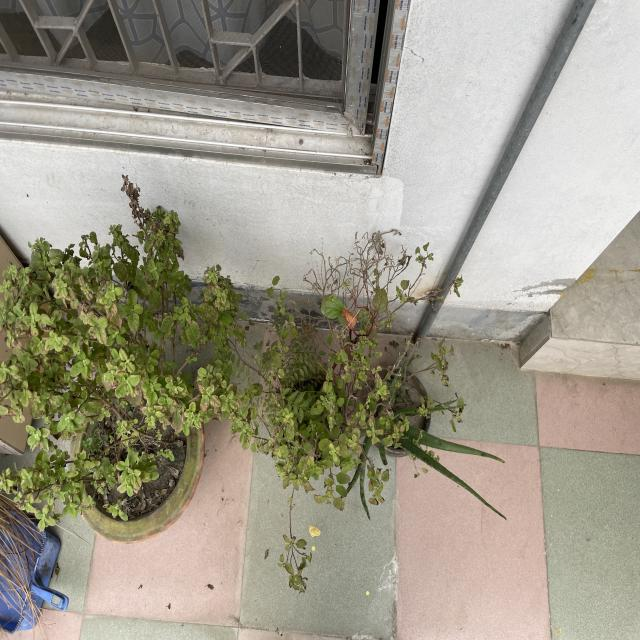Breeding Place: (259, 282, 451, 519), (51, 343, 220, 556)
